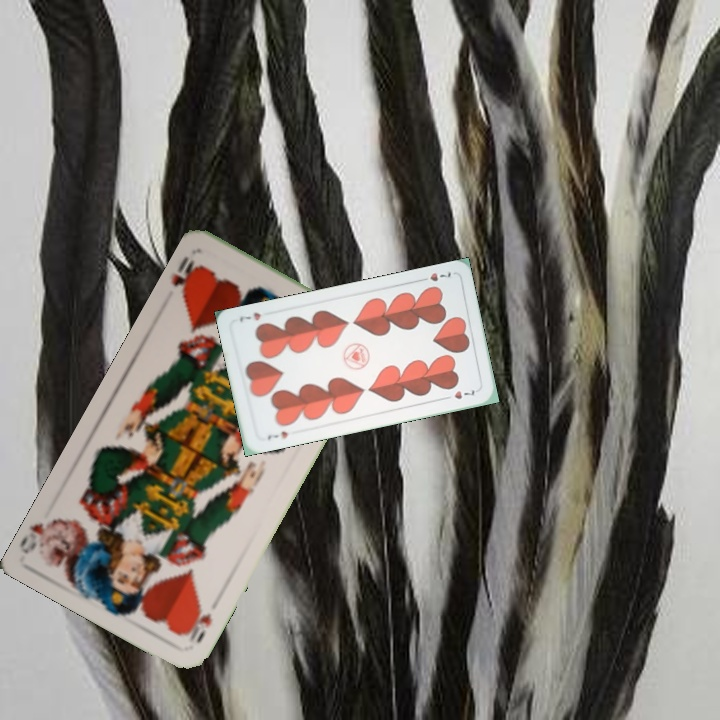H7: (415, 268, 454, 284), (263, 427, 290, 443)
HO: (166, 252, 205, 301), (181, 600, 215, 647)
